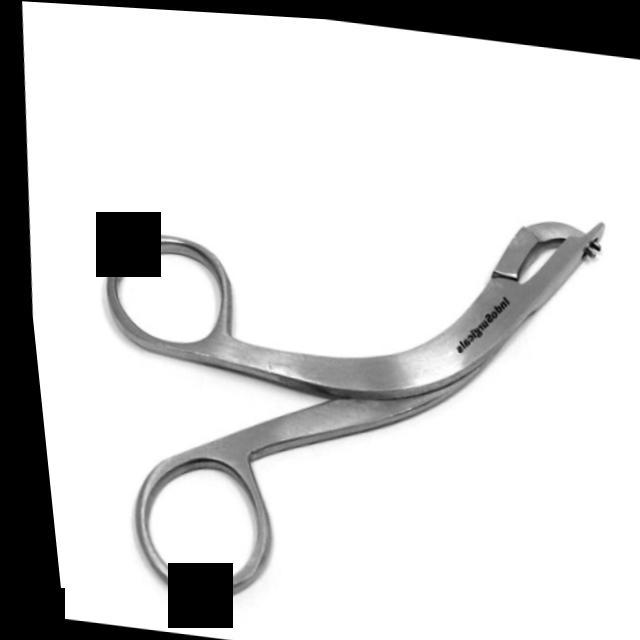Stapler Remover: (70, 127, 640, 640)
